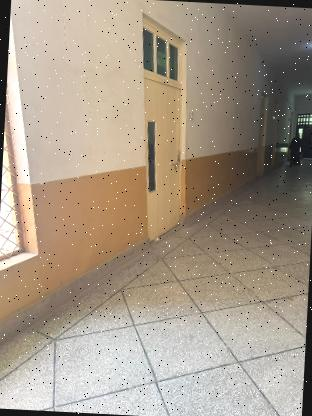door: (127, 8, 197, 260)
